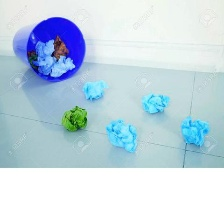book: (26, 33, 77, 78), (102, 115, 140, 155), (178, 110, 211, 148), (57, 101, 89, 134), (135, 86, 171, 115), (77, 77, 111, 104)
